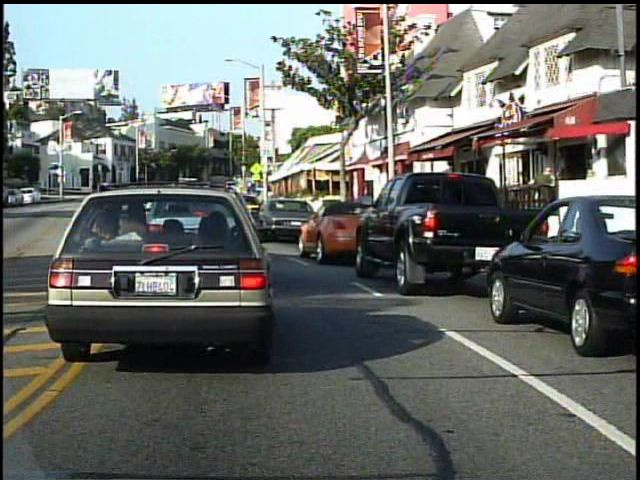person: (531, 163, 558, 231)
